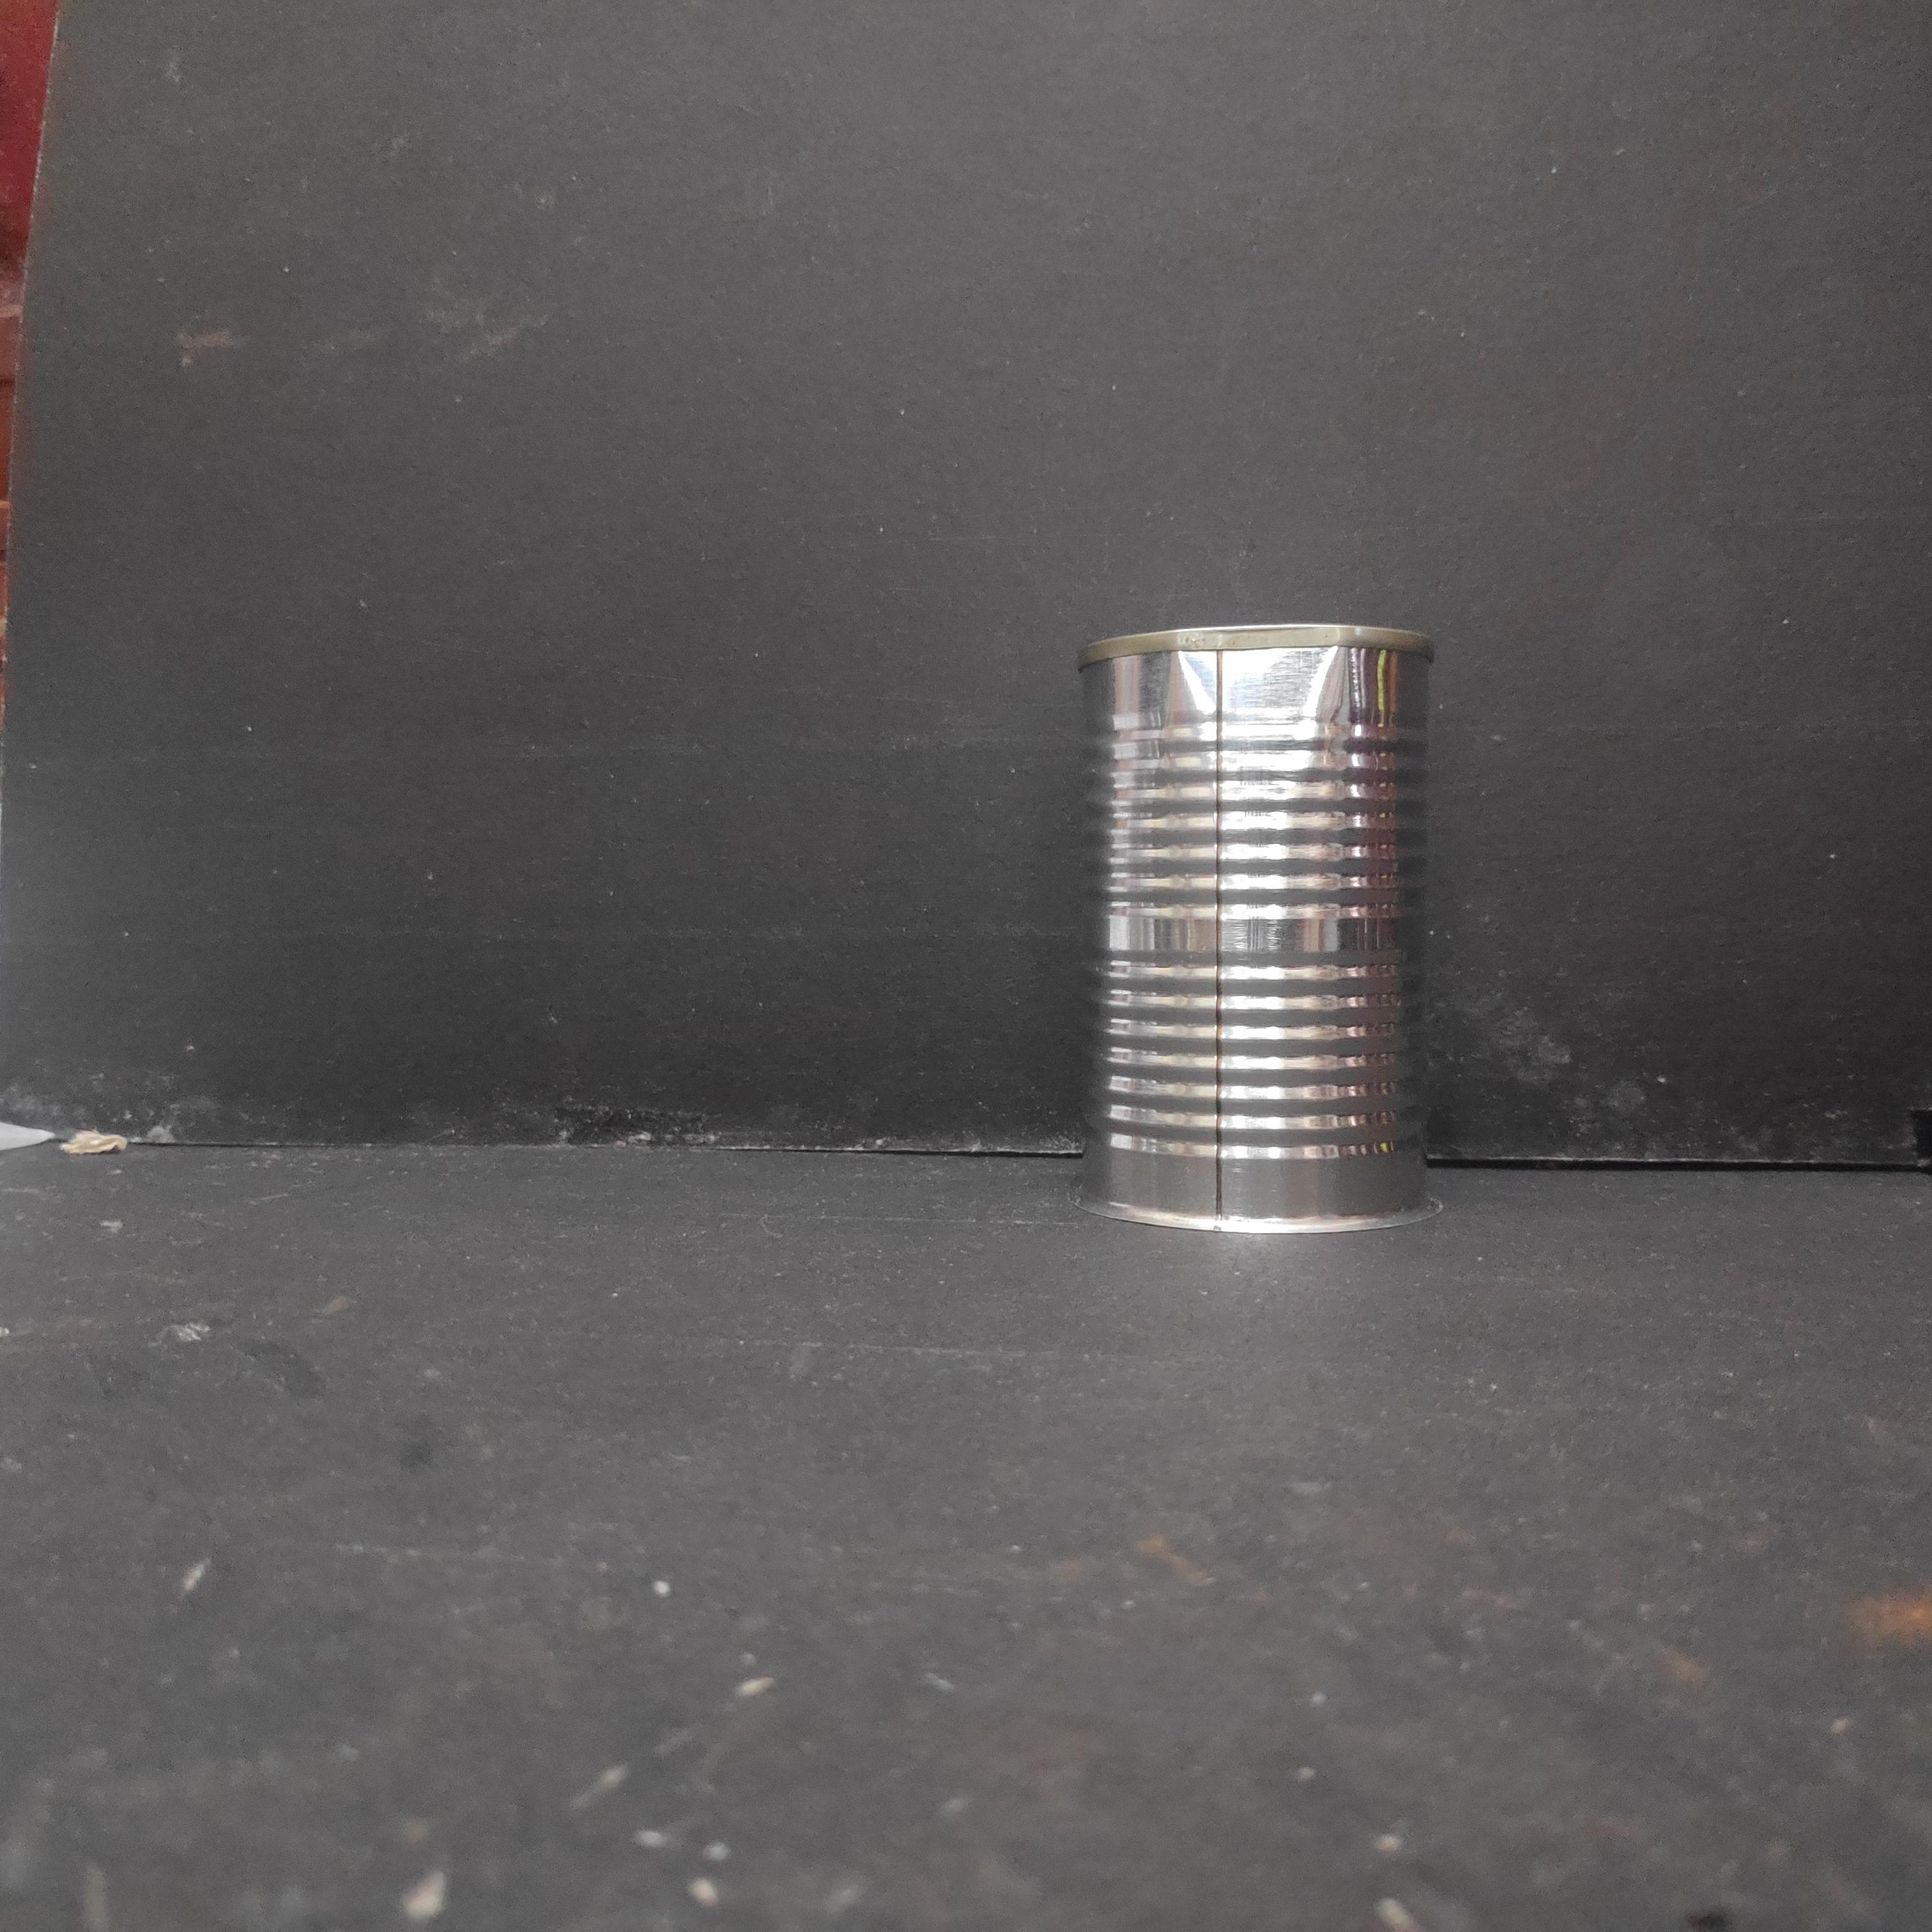Minor Defect: (1072, 614, 1440, 1246)
